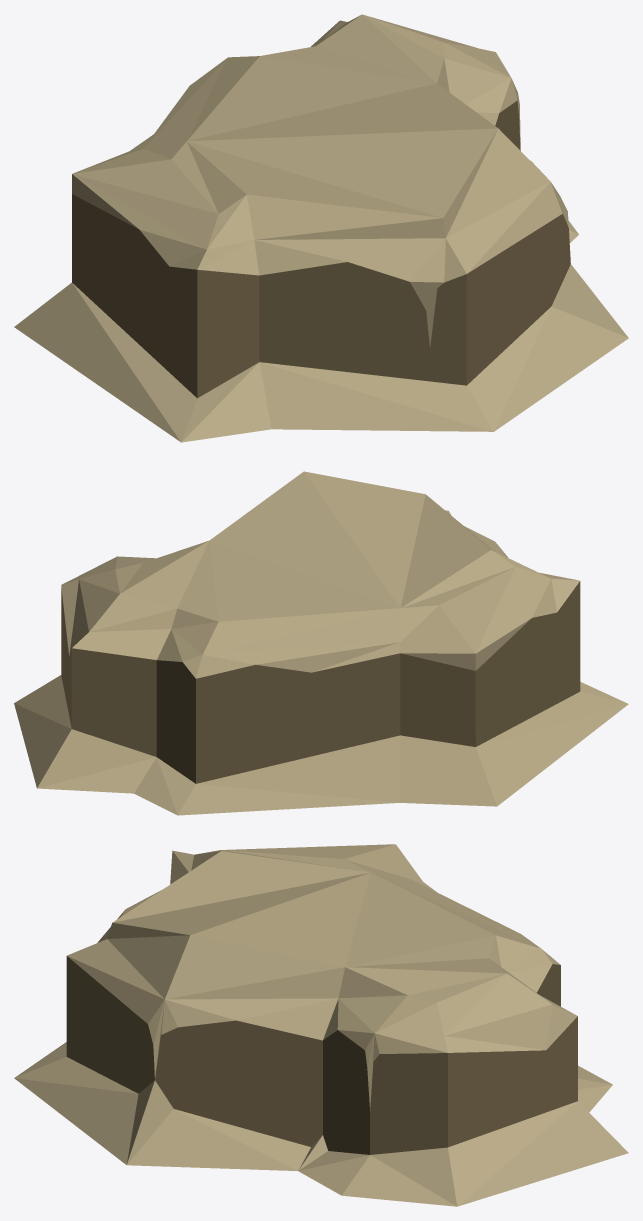
Rendered from Ground_06_B.FBX.
3 renders of one model, top to bottom at view 1: azimuth 30°, elevation 25°; view 2: azimuth 150°, elevation 25°; view 3: azimuth 270°, elevation 25°, orthographic. The views are drawn at different scales.
Parts seen in each view (by area): view 1: Ground_06_B; view 2: Ground_06_B; view 3: Ground_06_B.
Boxes of the visible parts, bbox=[...] form: Ground_06_B: bbox=[14, 14, 628, 442]; Ground_06_B: bbox=[14, 471, 628, 815]; Ground_06_B: bbox=[14, 844, 628, 1206].
Size of the model in its own units: 10.41 by 3.8 by 11.26.
